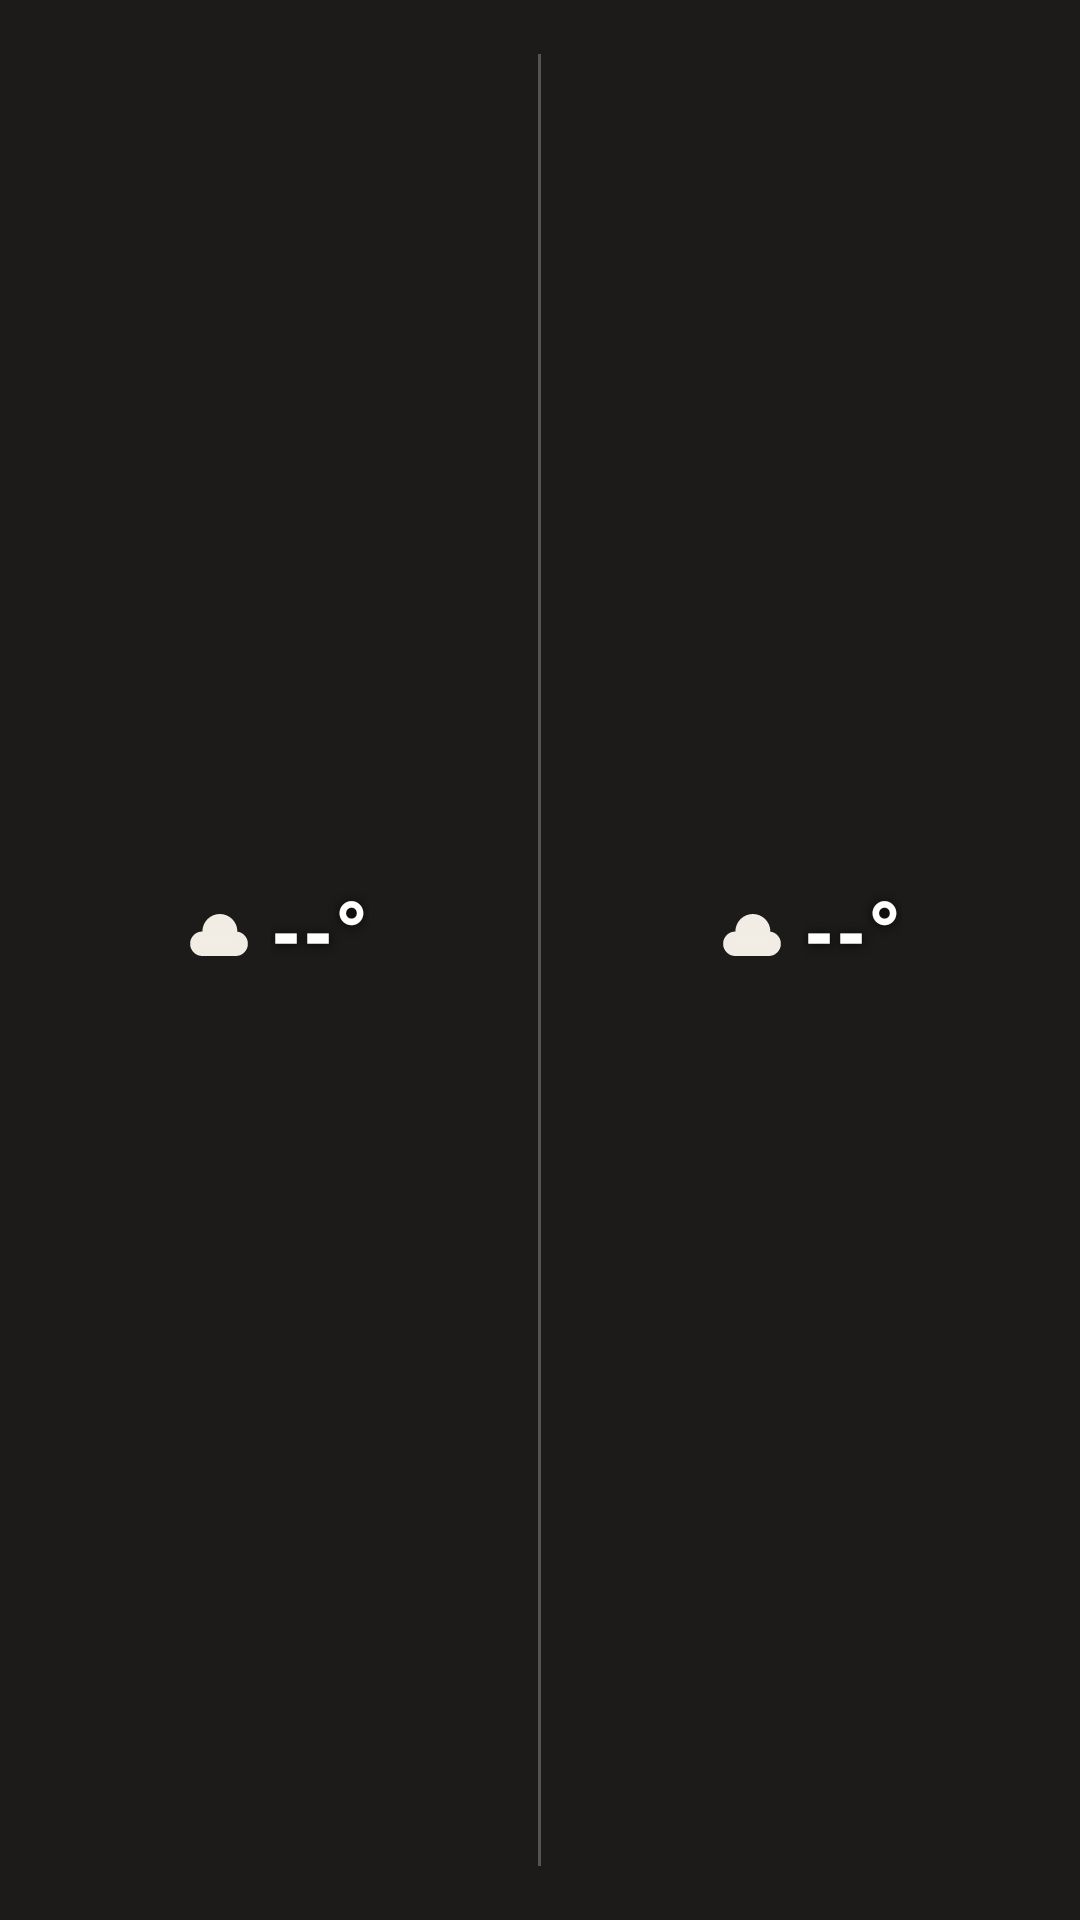

Where icons sit on this 1080*1920 app screen, as (x1, y1, x2, y2):
wi cloudy: (190, 914, 248, 956), (723, 914, 781, 956)
